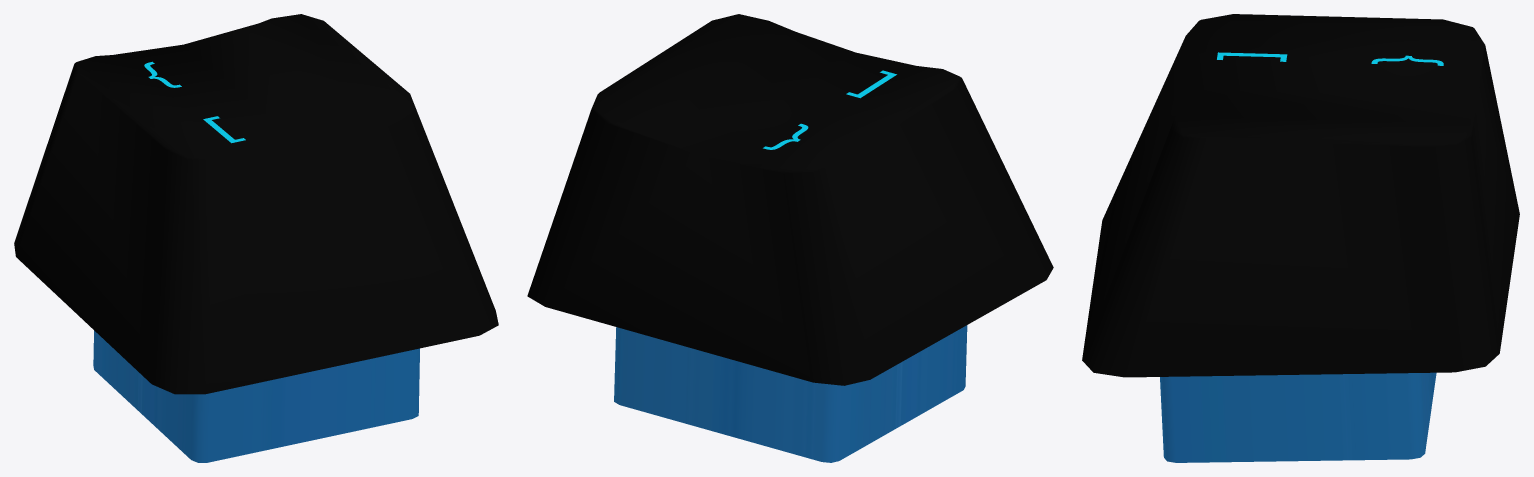
The model's file is key_14-f5V8CJx3.glb.
3 renders of one model, left to right at view 1: azimuth 30°, elevation 25°; view 2: azimuth 150°, elevation 25°; view 3: azimuth 270°, elevation 25°, orthographic. The views are drawn at different scales.
Parts seen in each view (by area): view 1: StudyShelf_1104; view 2: StudyShelf_1104; view 3: StudyShelf_1104.
Boxes of the visible parts, x1,y1,x2,y2 form: StudyShelf_1104: (14, 14, 498, 462); StudyShelf_1104: (527, 14, 1053, 462); StudyShelf_1104: (1082, 14, 1519, 462).
Bounding box in the file's own units: 4.35 × 3.62 × 4.35.
Materials: 3 (1 with a texture image).
